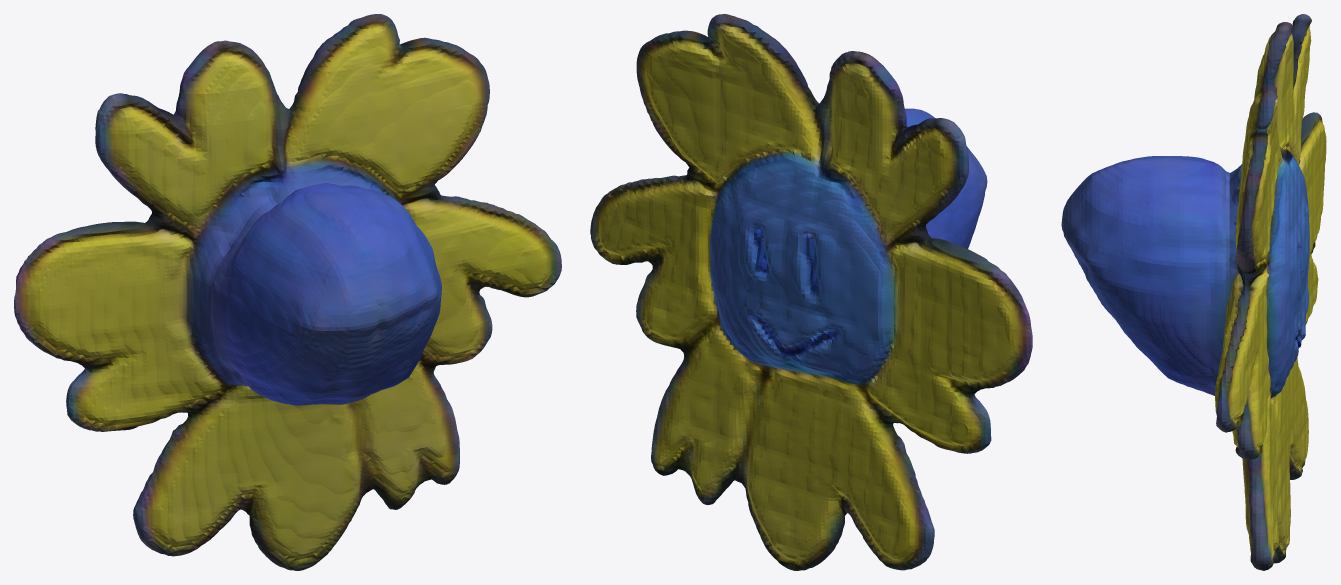
3 renders of one model, left to right at view 1: azimuth 30°, elevation 25°; view 2: azimuth 150°, elevation 25°; view 3: azimuth 270°, elevation 25°, orthographic. The views are drawn at different scales.
Visible parts, largest first — view 1: world; view 2: world; view 3: world.
Boxes of the visible parts, x1=… form: world: x1=14, y1=14, x2=561, y2=570; world: x1=590, y1=14, x2=1032, y2=570; world: x1=1061, y1=14, x2=1326, y2=570.
Bounding box in the file's own units: 0.9519 × 0.9925 × 0.4737.
